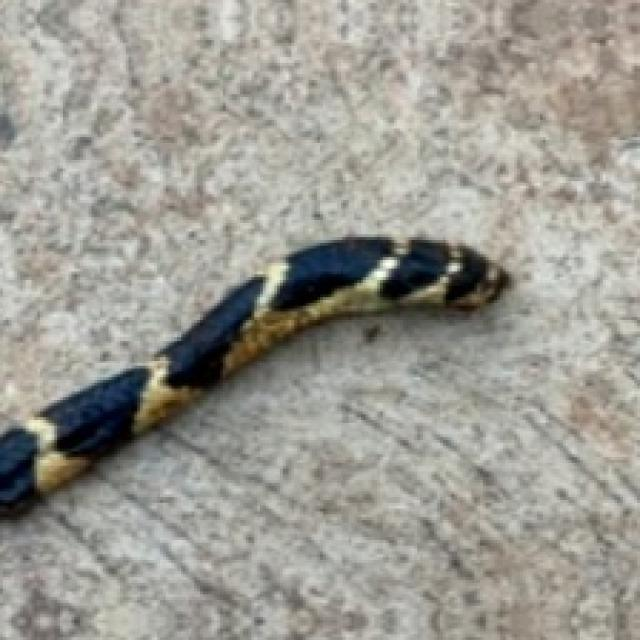king cobra: (0, 237, 506, 511)
